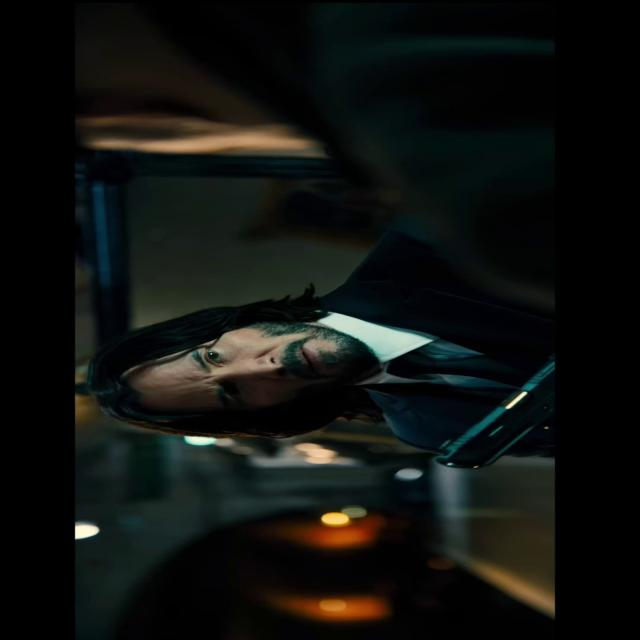weapons: (410, 348, 560, 476)
